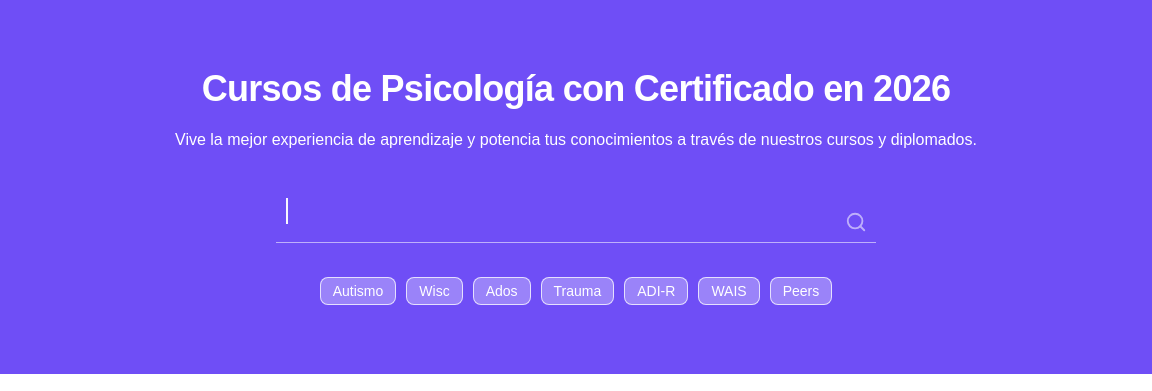
HeroSearch › habilita el botón al escribir texto
Expected: the button named "Buscar" is disabled, [836, 202, 876, 242]
Type "  trauma  " into the field named "Buscar cursos".
click(551, 222); type("  trauma  ")  # box [276, 209, 826, 236]
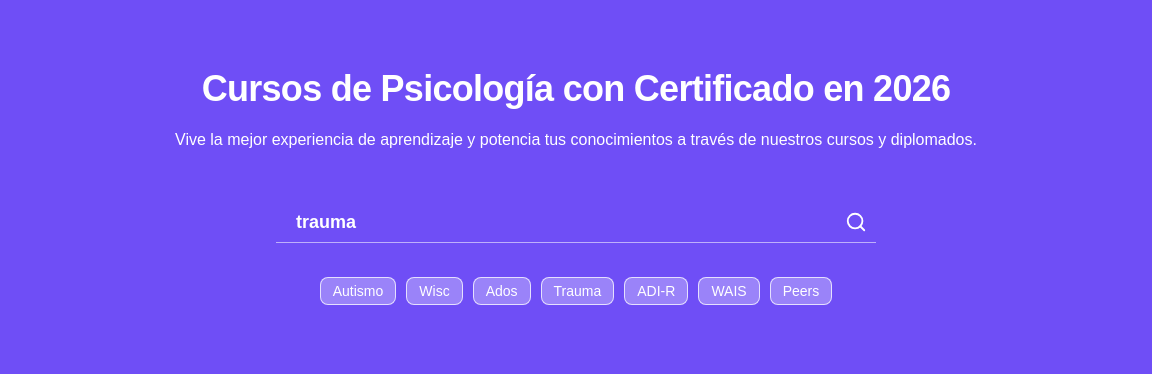
Now the button named "Buscar" is enabled, box [836, 202, 876, 242]
